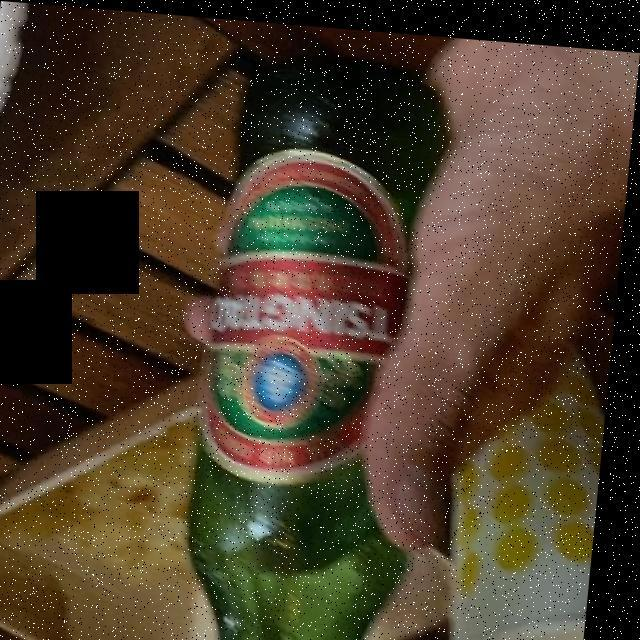beer: (202, 87, 436, 640)
